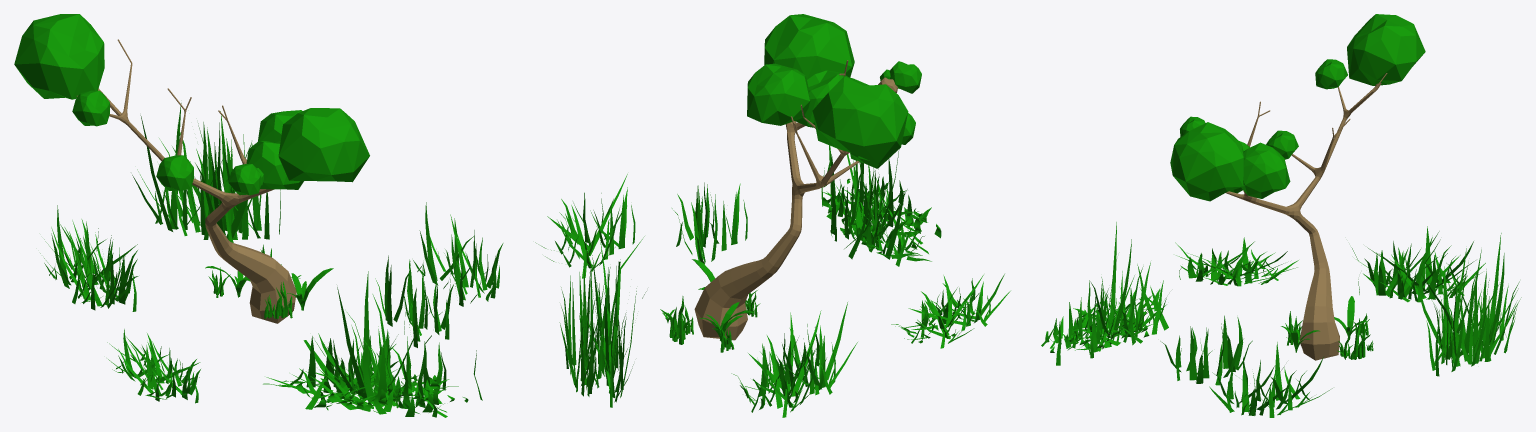
File: savanna.glb
3 views of the same model, side by side, from view 1: azimuth 30°, elevation 25°; view 2: azimuth 150°, elevation 25°; view 3: azimuth 270°, elevation 25° (orthographic). The views are drawn at different scales.
Visible parts, largest first — view 1: Icosphere.009; view 2: Icosphere.009; view 3: Icosphere.009.
Part boxes in pixels (<box>): Icosphere.009: <box>14,14,503,417</box>; Icosphere.009: <box>535,14,1010,417</box>; Icosphere.009: <box>1041,14,1521,417</box>.
Size of the model in its own units: 55.5 by 41.31 by 67.08.
